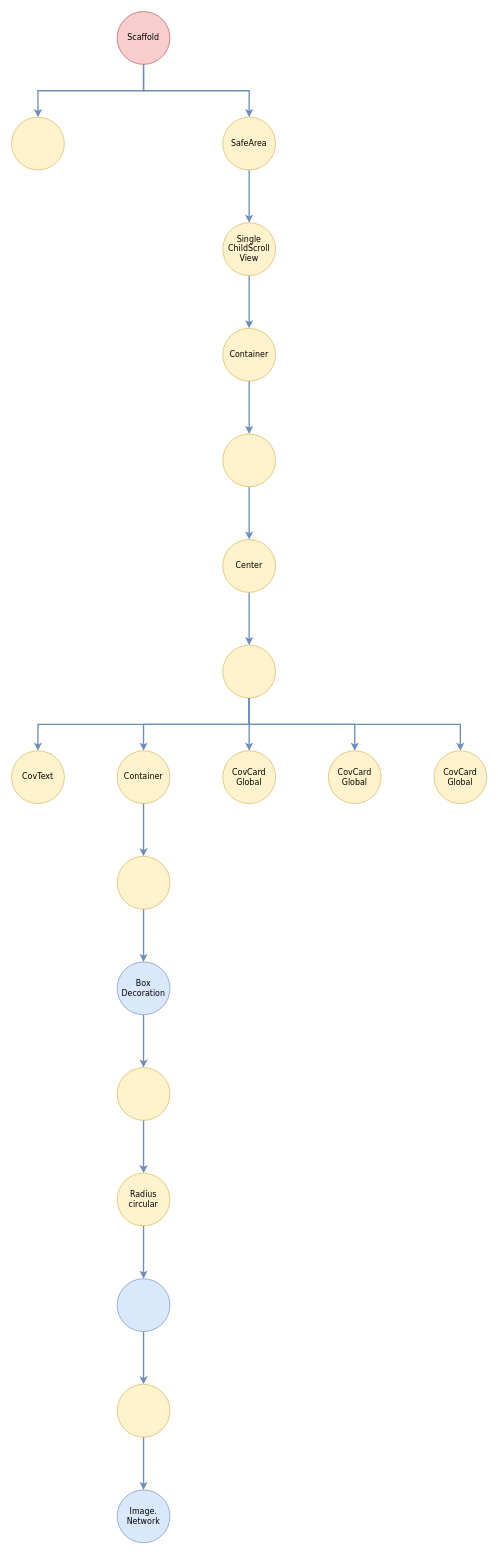
The diagram is 498 pixels wide and 1554 high, and some of its shapes have lost their labels. Here are the shapes that lost their labels. From the top down, the box of each, then its label:
(11, 116, 64, 170): CovAppBar
(222, 433, 276, 487): EdgeInsets fromLTRB
(222, 644, 276, 698): Column
(116, 856, 170, 909): EdgeInsets symmetric
(116, 1067, 170, 1120): Border Radiusall
(116, 1278, 170, 1332): BoxShadow
(116, 1384, 170, 1437): Offset
